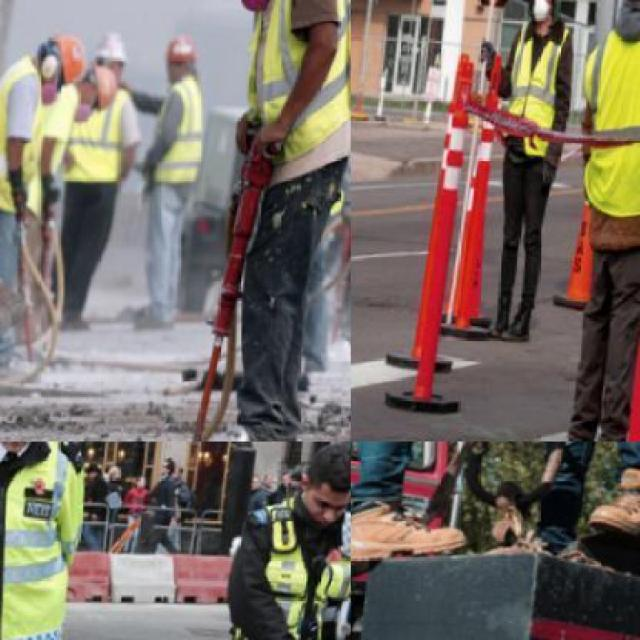vest: (0, 442, 106, 638), (245, 0, 349, 183), (245, 498, 349, 638), (570, 16, 638, 230), (498, 17, 574, 169), (0, 35, 55, 213), (60, 81, 138, 194), (143, 80, 208, 194)
